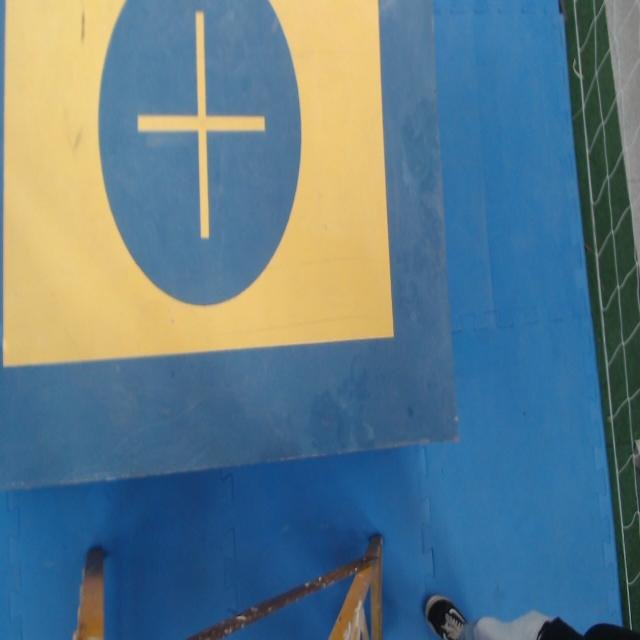base_inicio: (3, 0, 395, 366)
